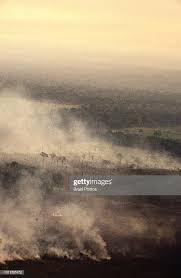smoke: (0, 85, 126, 262)
